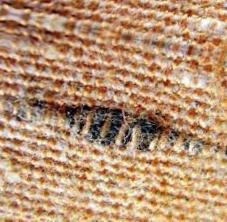slub: (10, 98, 225, 159)
